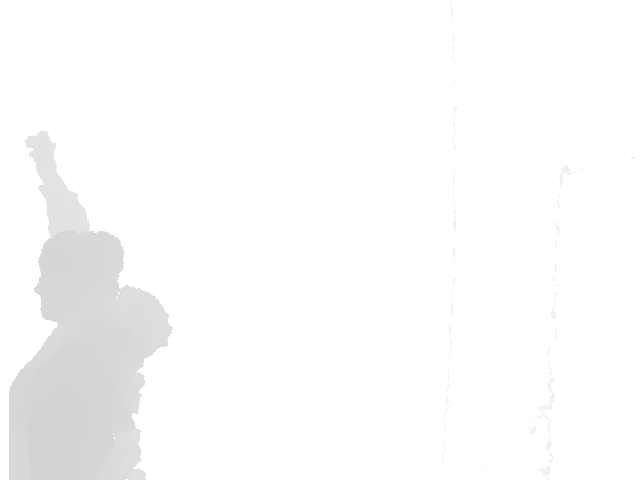hand: (24, 130, 58, 174)
head: (35, 231, 125, 322)
person: (8, 129, 174, 480)
